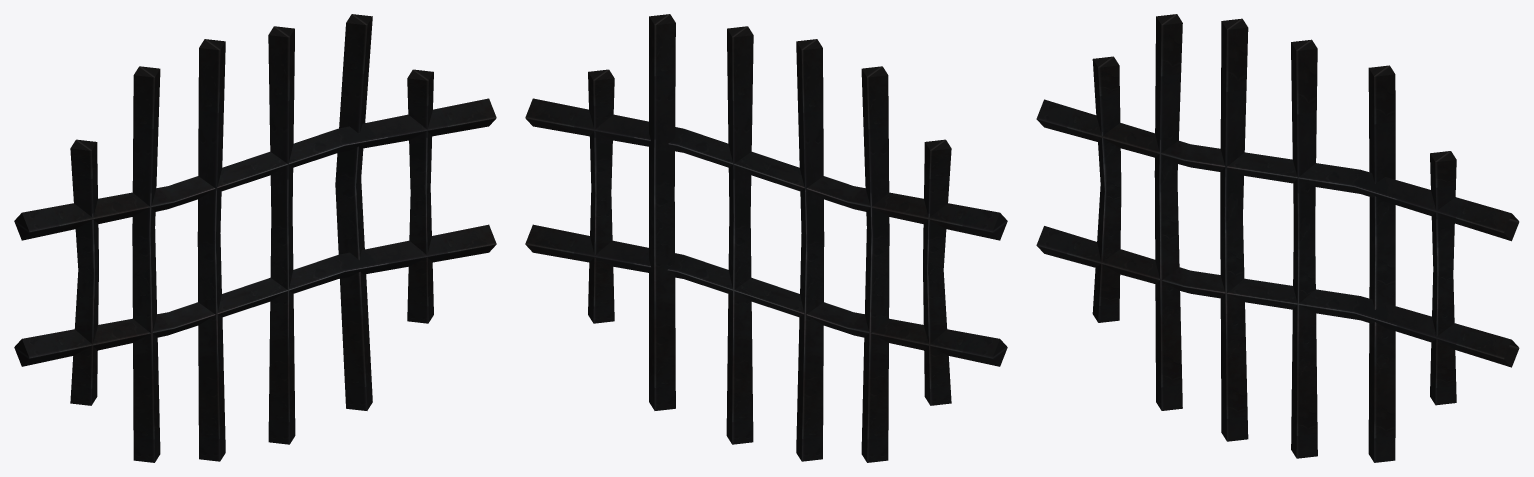
File: sewer_metal001.FBX
3 renders of one model, left to right at view 1: azimuth 30°, elevation 25°; view 2: azimuth 150°, elevation 25°; view 3: azimuth 330°, elevation 25°, orthographic.
Visible parts, largest first — view 1: sewer_metal001; view 2: sewer_metal001; view 3: sewer_metal001.
Boxes of the visible parts, <box> form: sewer_metal001: <box>14,14,496,462</box>; sewer_metal001: <box>525,14,1007,462</box>; sewer_metal001: <box>1036,14,1519,462</box>.
Bounding box in the file's own units: 370 × 311 × 28.98.
